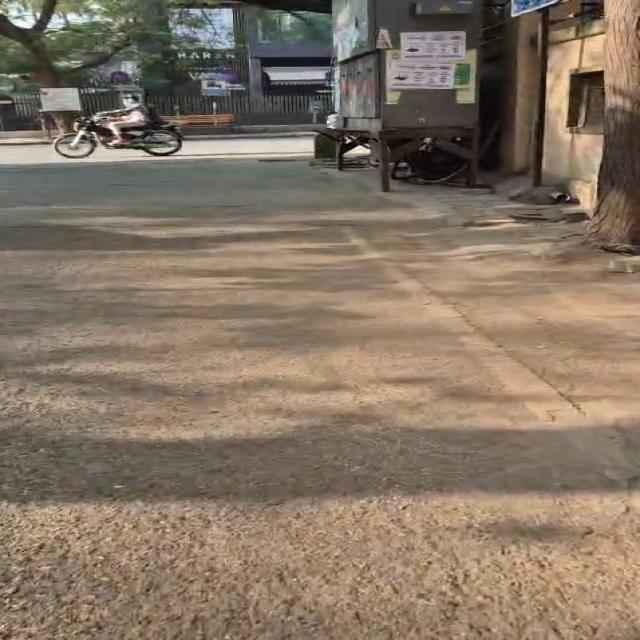bike: (54, 114, 183, 158)
pole: (533, 8, 550, 186)
